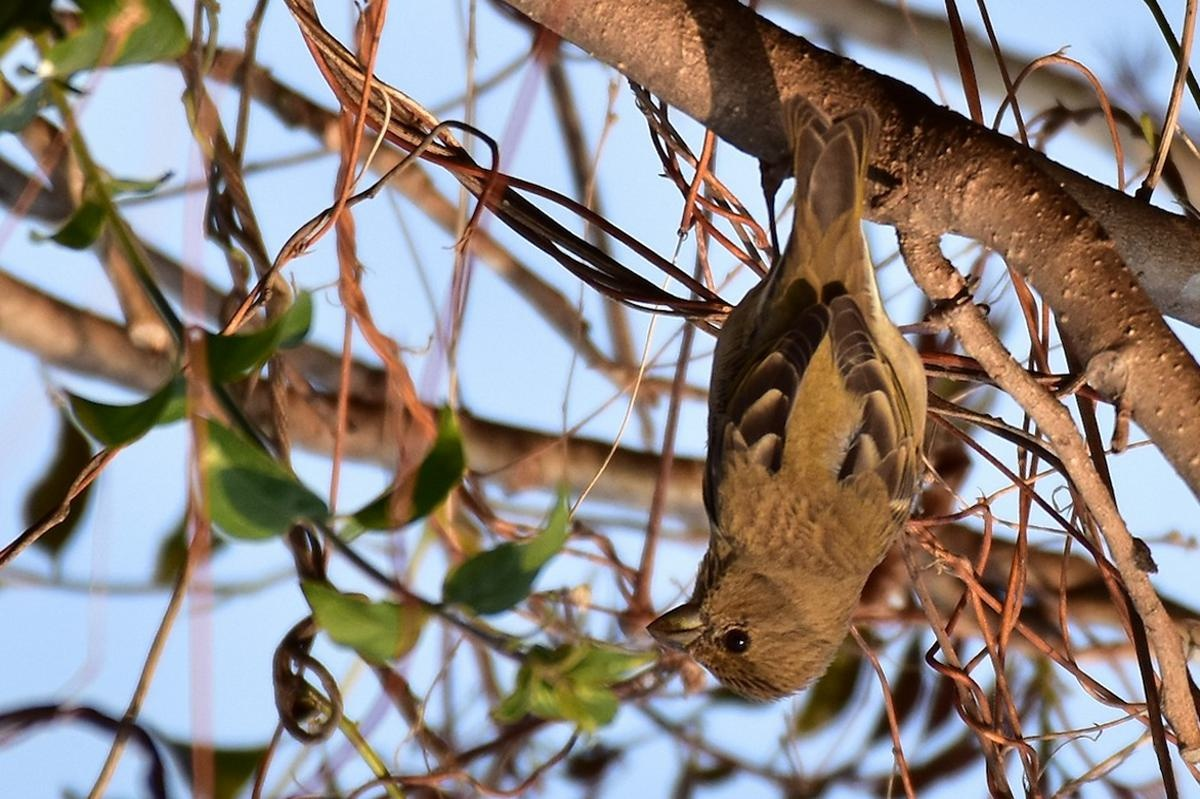rosefinch: (616, 126, 903, 697)
